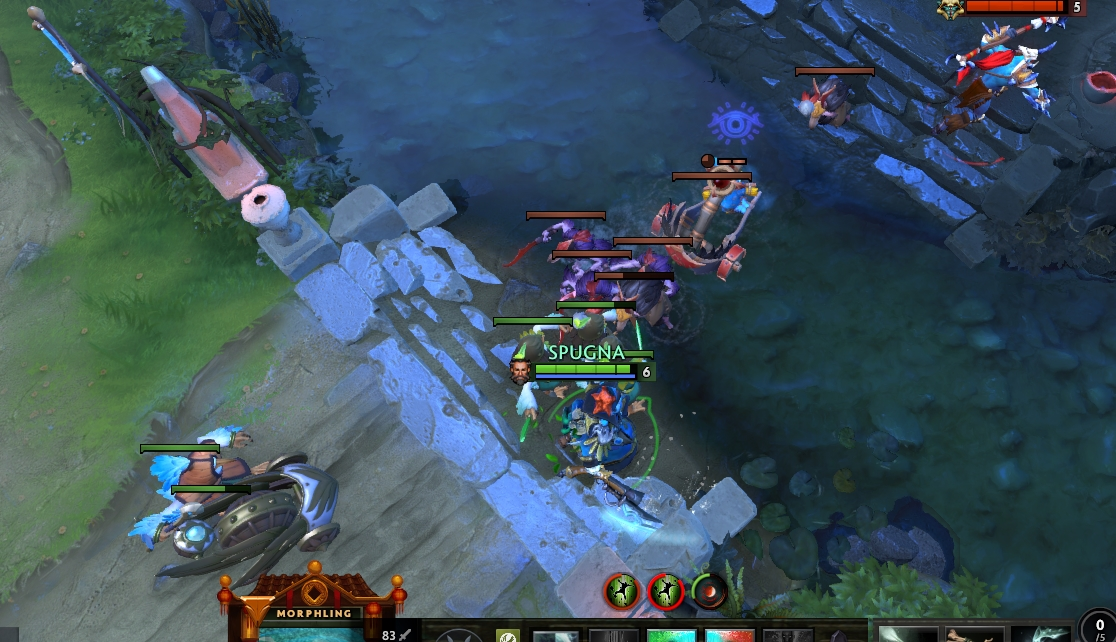allyCreep: (571, 341, 662, 362), (552, 294, 641, 315), (487, 313, 580, 329), (169, 479, 255, 495), (134, 443, 223, 456)
enemyCreep: (666, 165, 757, 187), (520, 206, 610, 221), (791, 62, 880, 76), (550, 245, 638, 259), (589, 270, 681, 283), (610, 233, 696, 245)
